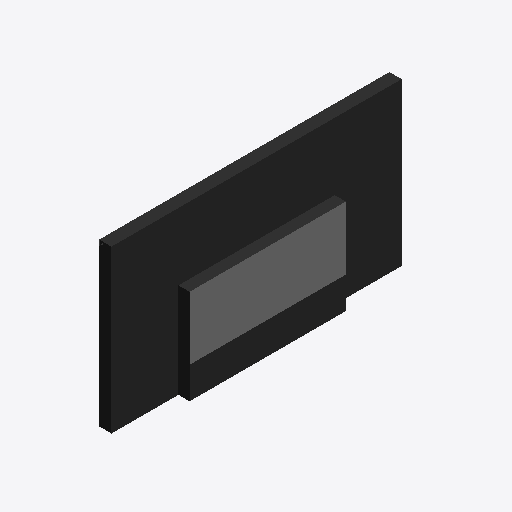
A Minecraft block model of 6 cuboids, rendered isometrically (azimuth 45°, elevation 35.3°) with the resource pack's own textures.
Parts seen in each view (by area): element 2, element 6, element 4.
Boxes of the visible parts, x1=… form: element 2: x1=100, y1=73, x2=401, y2=433; element 6: x1=178, y1=195, x2=345, y2=400; element 4: x1=99, y1=72, x2=390, y2=245.
Size of the model in its own units: 13 by 7.25 by 1.05.